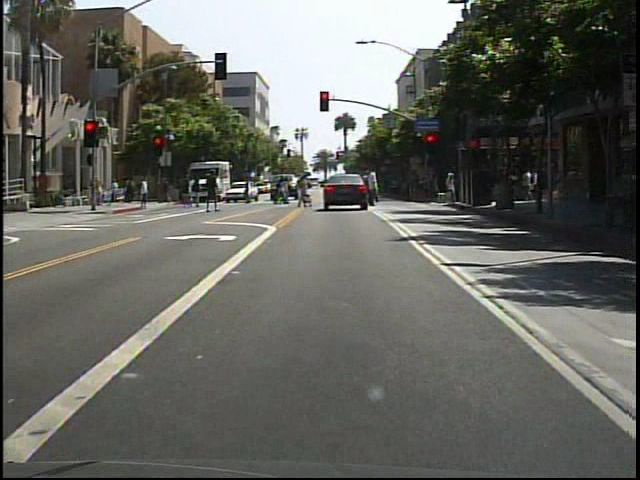person: (361, 163, 387, 210), (206, 169, 227, 216), (297, 173, 316, 212), (137, 175, 154, 212), (190, 174, 206, 211)
